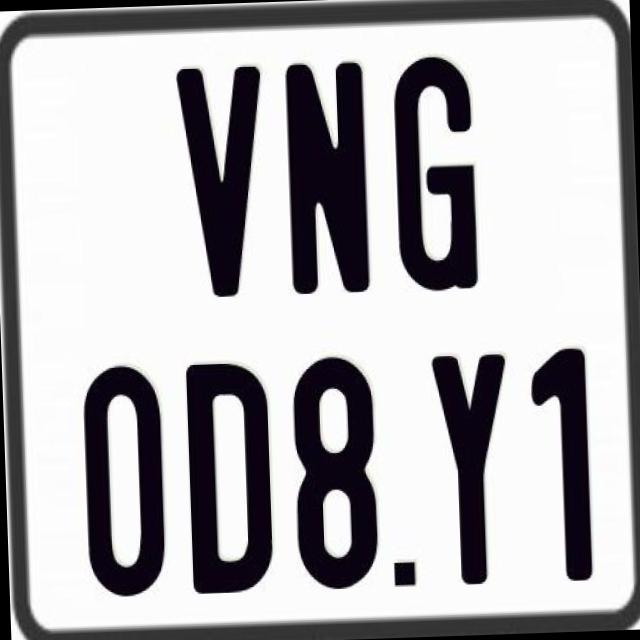0: (80, 359, 168, 597)
1: (526, 343, 590, 579)
8: (288, 354, 379, 592)
D: (185, 361, 279, 603)
G: (388, 54, 479, 296)
N: (281, 61, 368, 294)
V: (174, 64, 266, 304)
Y: (432, 348, 518, 580)
